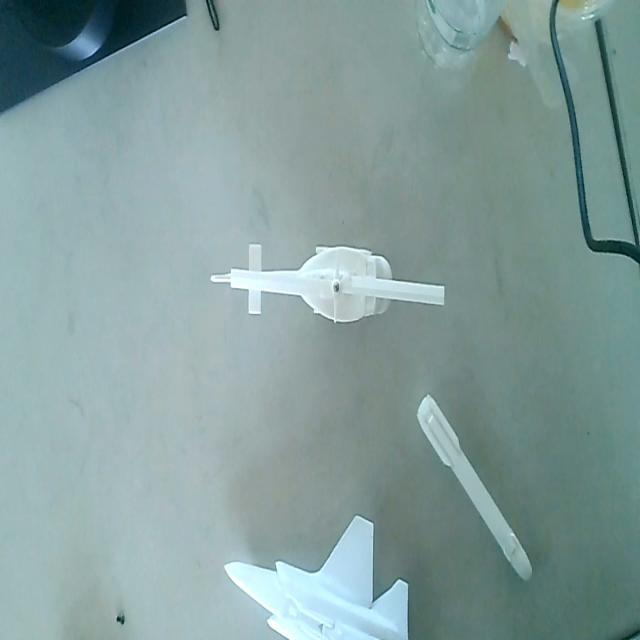Helicopter: (210, 235, 448, 334)
Jet: (218, 508, 412, 640)
Rocket: (416, 385, 536, 587)
